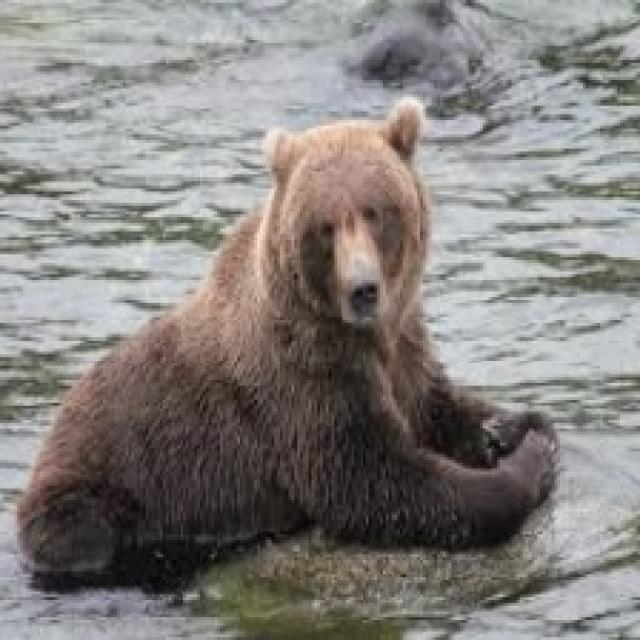animal: (48, 75, 606, 596)
